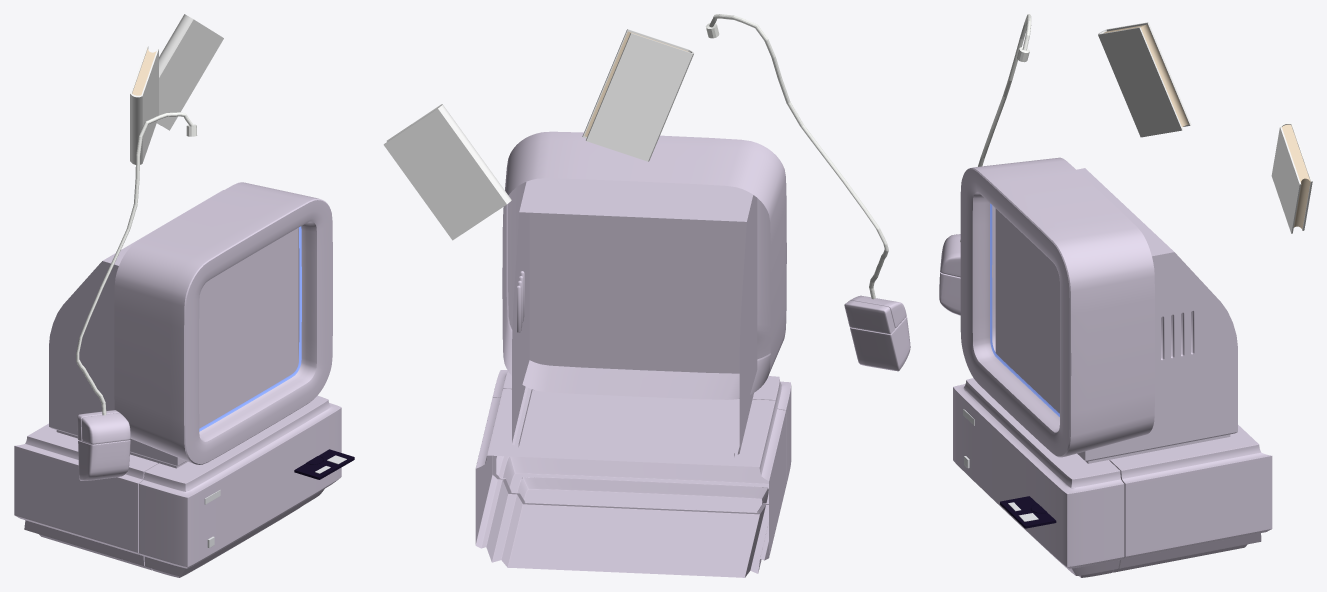
Rendered from geometries.glb.
The picture shows the model from 3 angles, left to right: view 1: azimuth 30°, elevation 25°; view 2: azimuth 150°, elevation 25°; view 3: azimuth 270°, elevation 25°; orthographic projection. The views are drawn at different scales.
Visible parts, largest first — view 1: Cube.290, Cube.228, Cube.289, Cube.236, Cube.223, Cube.235, Cylinder; view 2: Cube.228, Cube.289, Cube.290, Cube.236, Cube.235, Cube.223, Cylinder; view 3: Cube.290, Cube.228, Cube.289, Cube.235, Cube.236, Cube.223, Cylinder.
Boxes of the visible parts, box(x1,y1,x2,y2) form: Cube.290: box(114, 182, 332, 464); Cube.228: box(14, 395, 354, 577); Cube.289: box(49, 190, 298, 468); Cube.236: box(157, 14, 223, 130); Cube.223: box(77, 410, 130, 480); Cube.235: box(130, 46, 158, 164); Cylinder: box(76, 112, 197, 415); Cube.228: box(475, 370, 791, 577); Cube.289: box(512, 178, 757, 456); Cube.290: box(502, 131, 786, 399); Cube.236: box(383, 104, 511, 240); Cube.235: box(582, 29, 694, 161); Cube.223: box(844, 295, 910, 371); Cylinder: box(706, 14, 888, 299); Cube.290: box(960, 157, 1154, 457); Cube.228: box(953, 378, 1272, 577); Cube.289: box(995, 168, 1237, 463); Cube.235: box(1098, 22, 1191, 137); Cube.236: box(1271, 122, 1312, 233); Cube.223: box(939, 234, 960, 315); Cylinder: box(960, 14, 1031, 241).
Bounding box in the file's own units: 0.5856 × 0.8371 × 0.5768.
